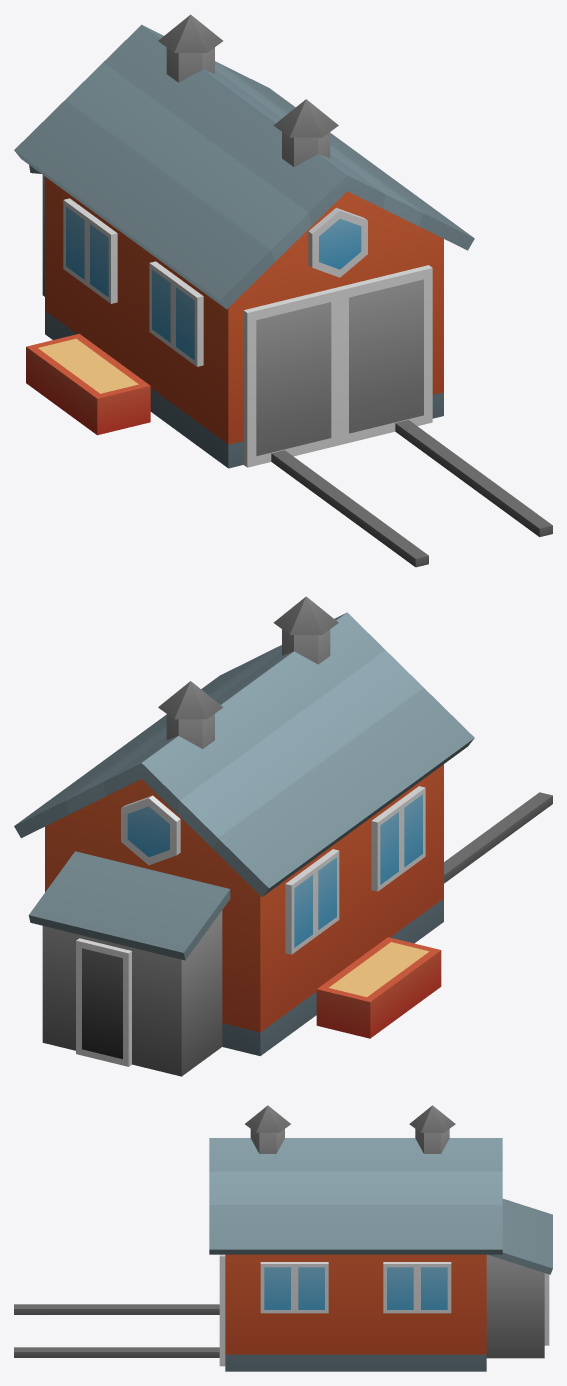
Rendered from depo.fbx.
The picture shows the model from 3 angles, top to bottom: view 1: azimuth 30°, elevation 25°; view 2: azimuth 150°, elevation 25°; view 3: azimuth 270°, elevation 25°; orthographic projection. The views are drawn at different scales.
Parts seen in each view (by area): view 1: depo; view 2: depo; view 3: depo.
Boxes of the visible parts, <box> form: depo: <box>14,14,552,567</box>; depo: <box>14,596,552,1076</box>; depo: <box>14,1105,552,1371</box>.
Size of the model in its own units: 576 by 590 by 1258.
Materials: 1 (1 with a texture image).
